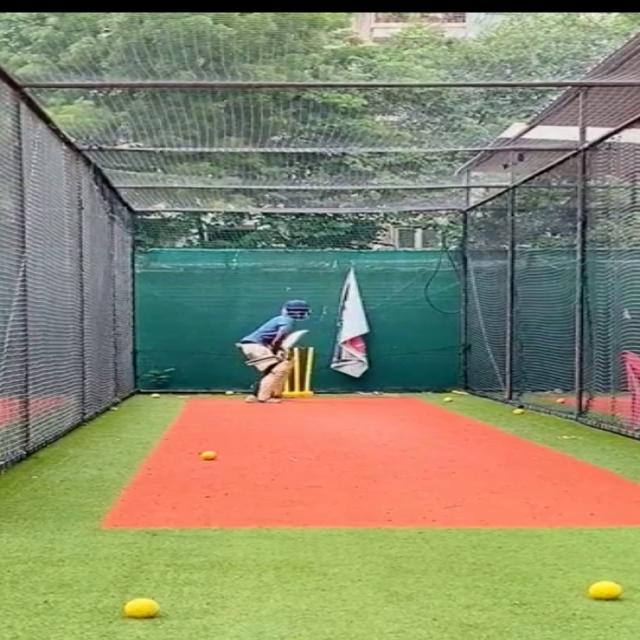ball: (118, 596, 170, 622), (586, 580, 626, 602), (197, 449, 219, 461), (513, 406, 526, 414), (150, 392, 164, 399), (556, 397, 569, 404), (226, 388, 237, 396), (442, 396, 455, 402)
stump: (291, 345, 319, 396)
